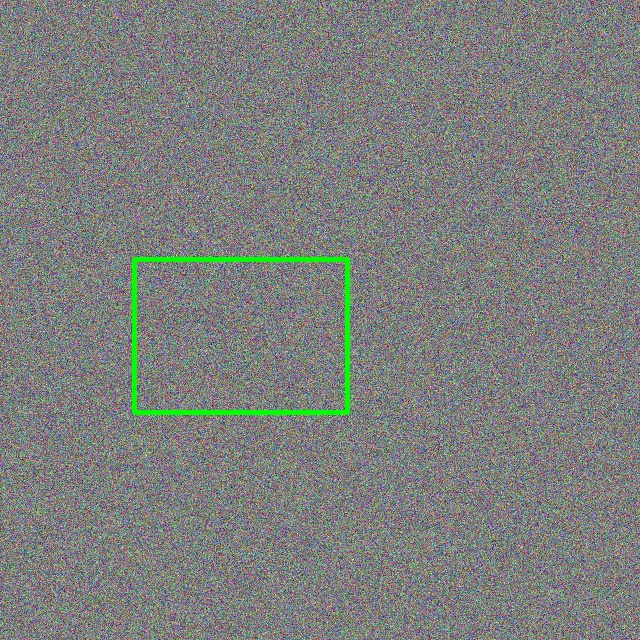base: (134, 259, 347, 412)
